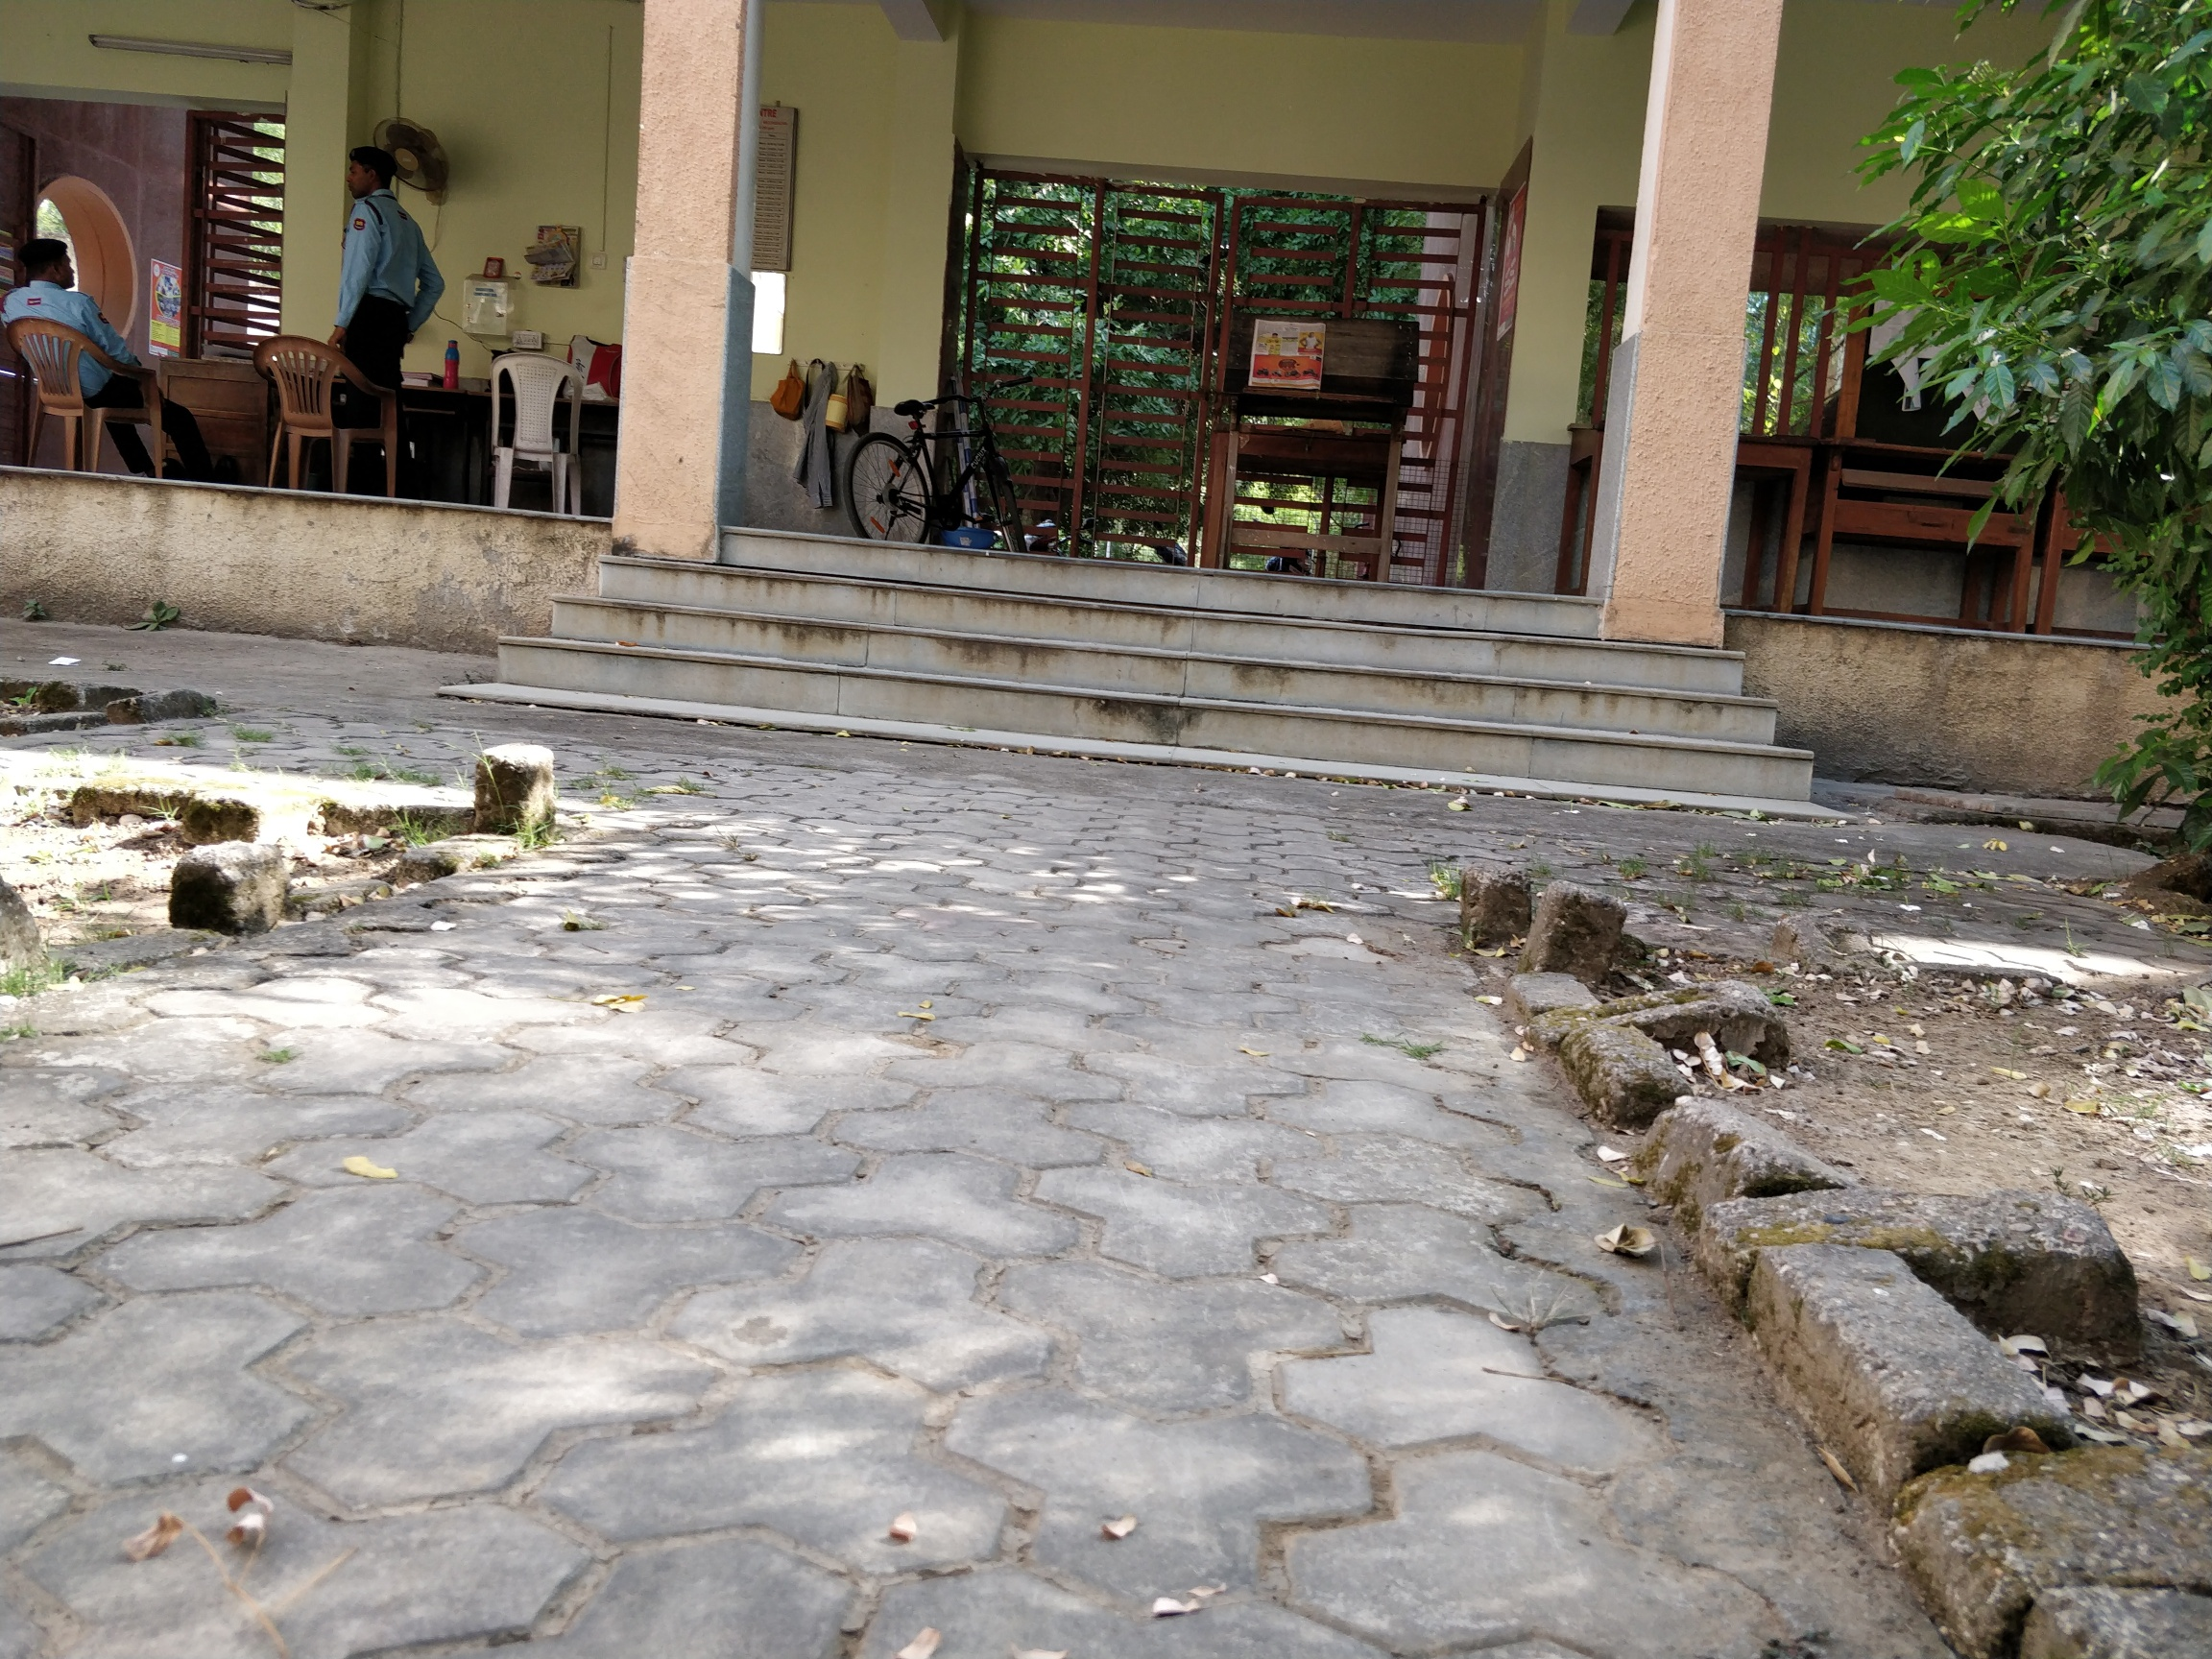stairs_up: (472, 521, 1831, 812)
